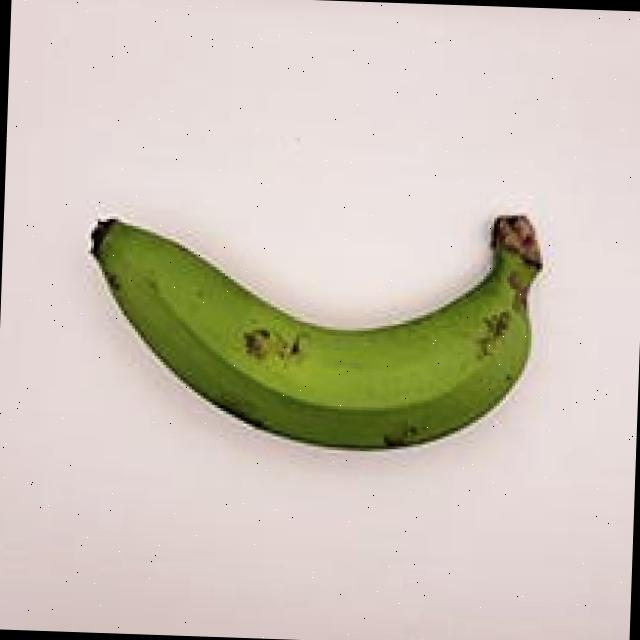Raw: (62, 158, 577, 475)
